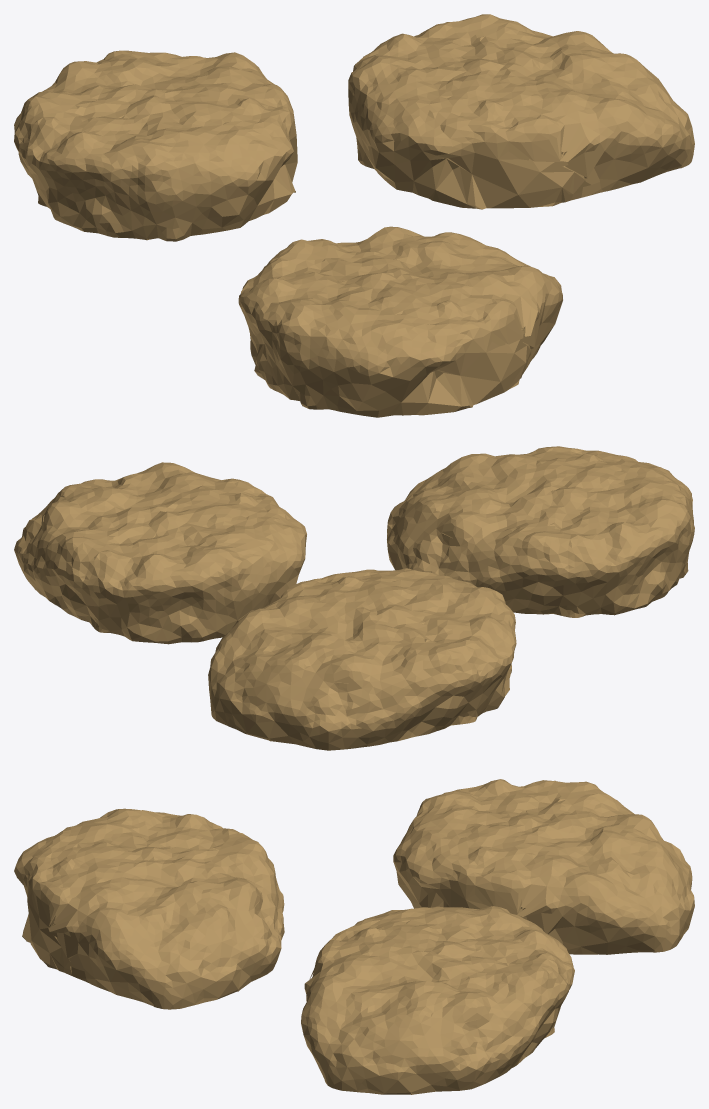
File: 3nuggets.dae
The picture shows the model from 3 angles, top to bottom: view 1: azimuth 30°, elevation 25°; view 2: azimuth 150°, elevation 25°; view 3: azimuth 270°, elevation 25°; orthographic projection. The views are drawn at different scales.
Parts seen in each view (by area): view 1: flat bottom nugget.001, flat bottom nugget.002, flat bottom nugget; view 2: flat bottom nugget, flat bottom nugget.002, flat bottom nugget.001; view 3: flat bottom nugget.002, flat bottom nugget.001, flat bottom nugget.
Part boxes in pixels (x1,y1,x2,y2): flat bottom nugget.001: (348, 14, 694, 209); flat bottom nugget.002: (238, 226, 562, 417); flat bottom nugget: (14, 50, 297, 241); flat bottom nugget: (208, 568, 516, 750); flat bottom nugget.002: (387, 446, 694, 617); flat bottom nugget.001: (14, 462, 306, 644); flat bottom nugget.002: (14, 808, 284, 1009); flat bottom nugget.001: (301, 906, 574, 1094); flat bottom nugget: (393, 779, 694, 954).
Bounding box in the file's own units: 0.1491 × 0.1694 × 0.029.
